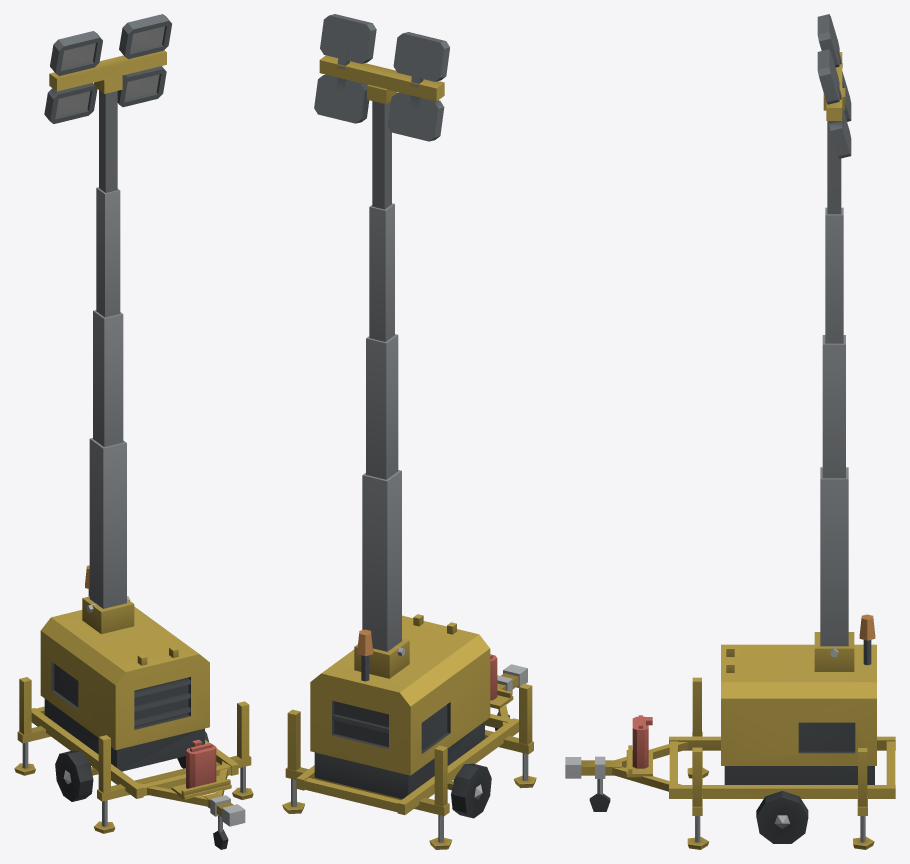
File: lighttower.glb
3 views of the same model, side by side, from view 1: azimuth 30°, elevation 25°; view 2: azimuth 150°, elevation 25°; view 3: azimuth 270°, elevation 25° (orthographic). The views are drawn at different scales.
Visible parts, largest first — view 1: lighttower; view 2: lighttower; view 3: lighttower.
Boxes of the visible parts, box(x1,y1,x2,y2) form: lighttower: box(14, 14, 253, 849); lighttower: box(282, 14, 536, 849); lighttower: box(565, 14, 895, 849).
Size of the model in its own units: 2 by 9 by 3.5.
